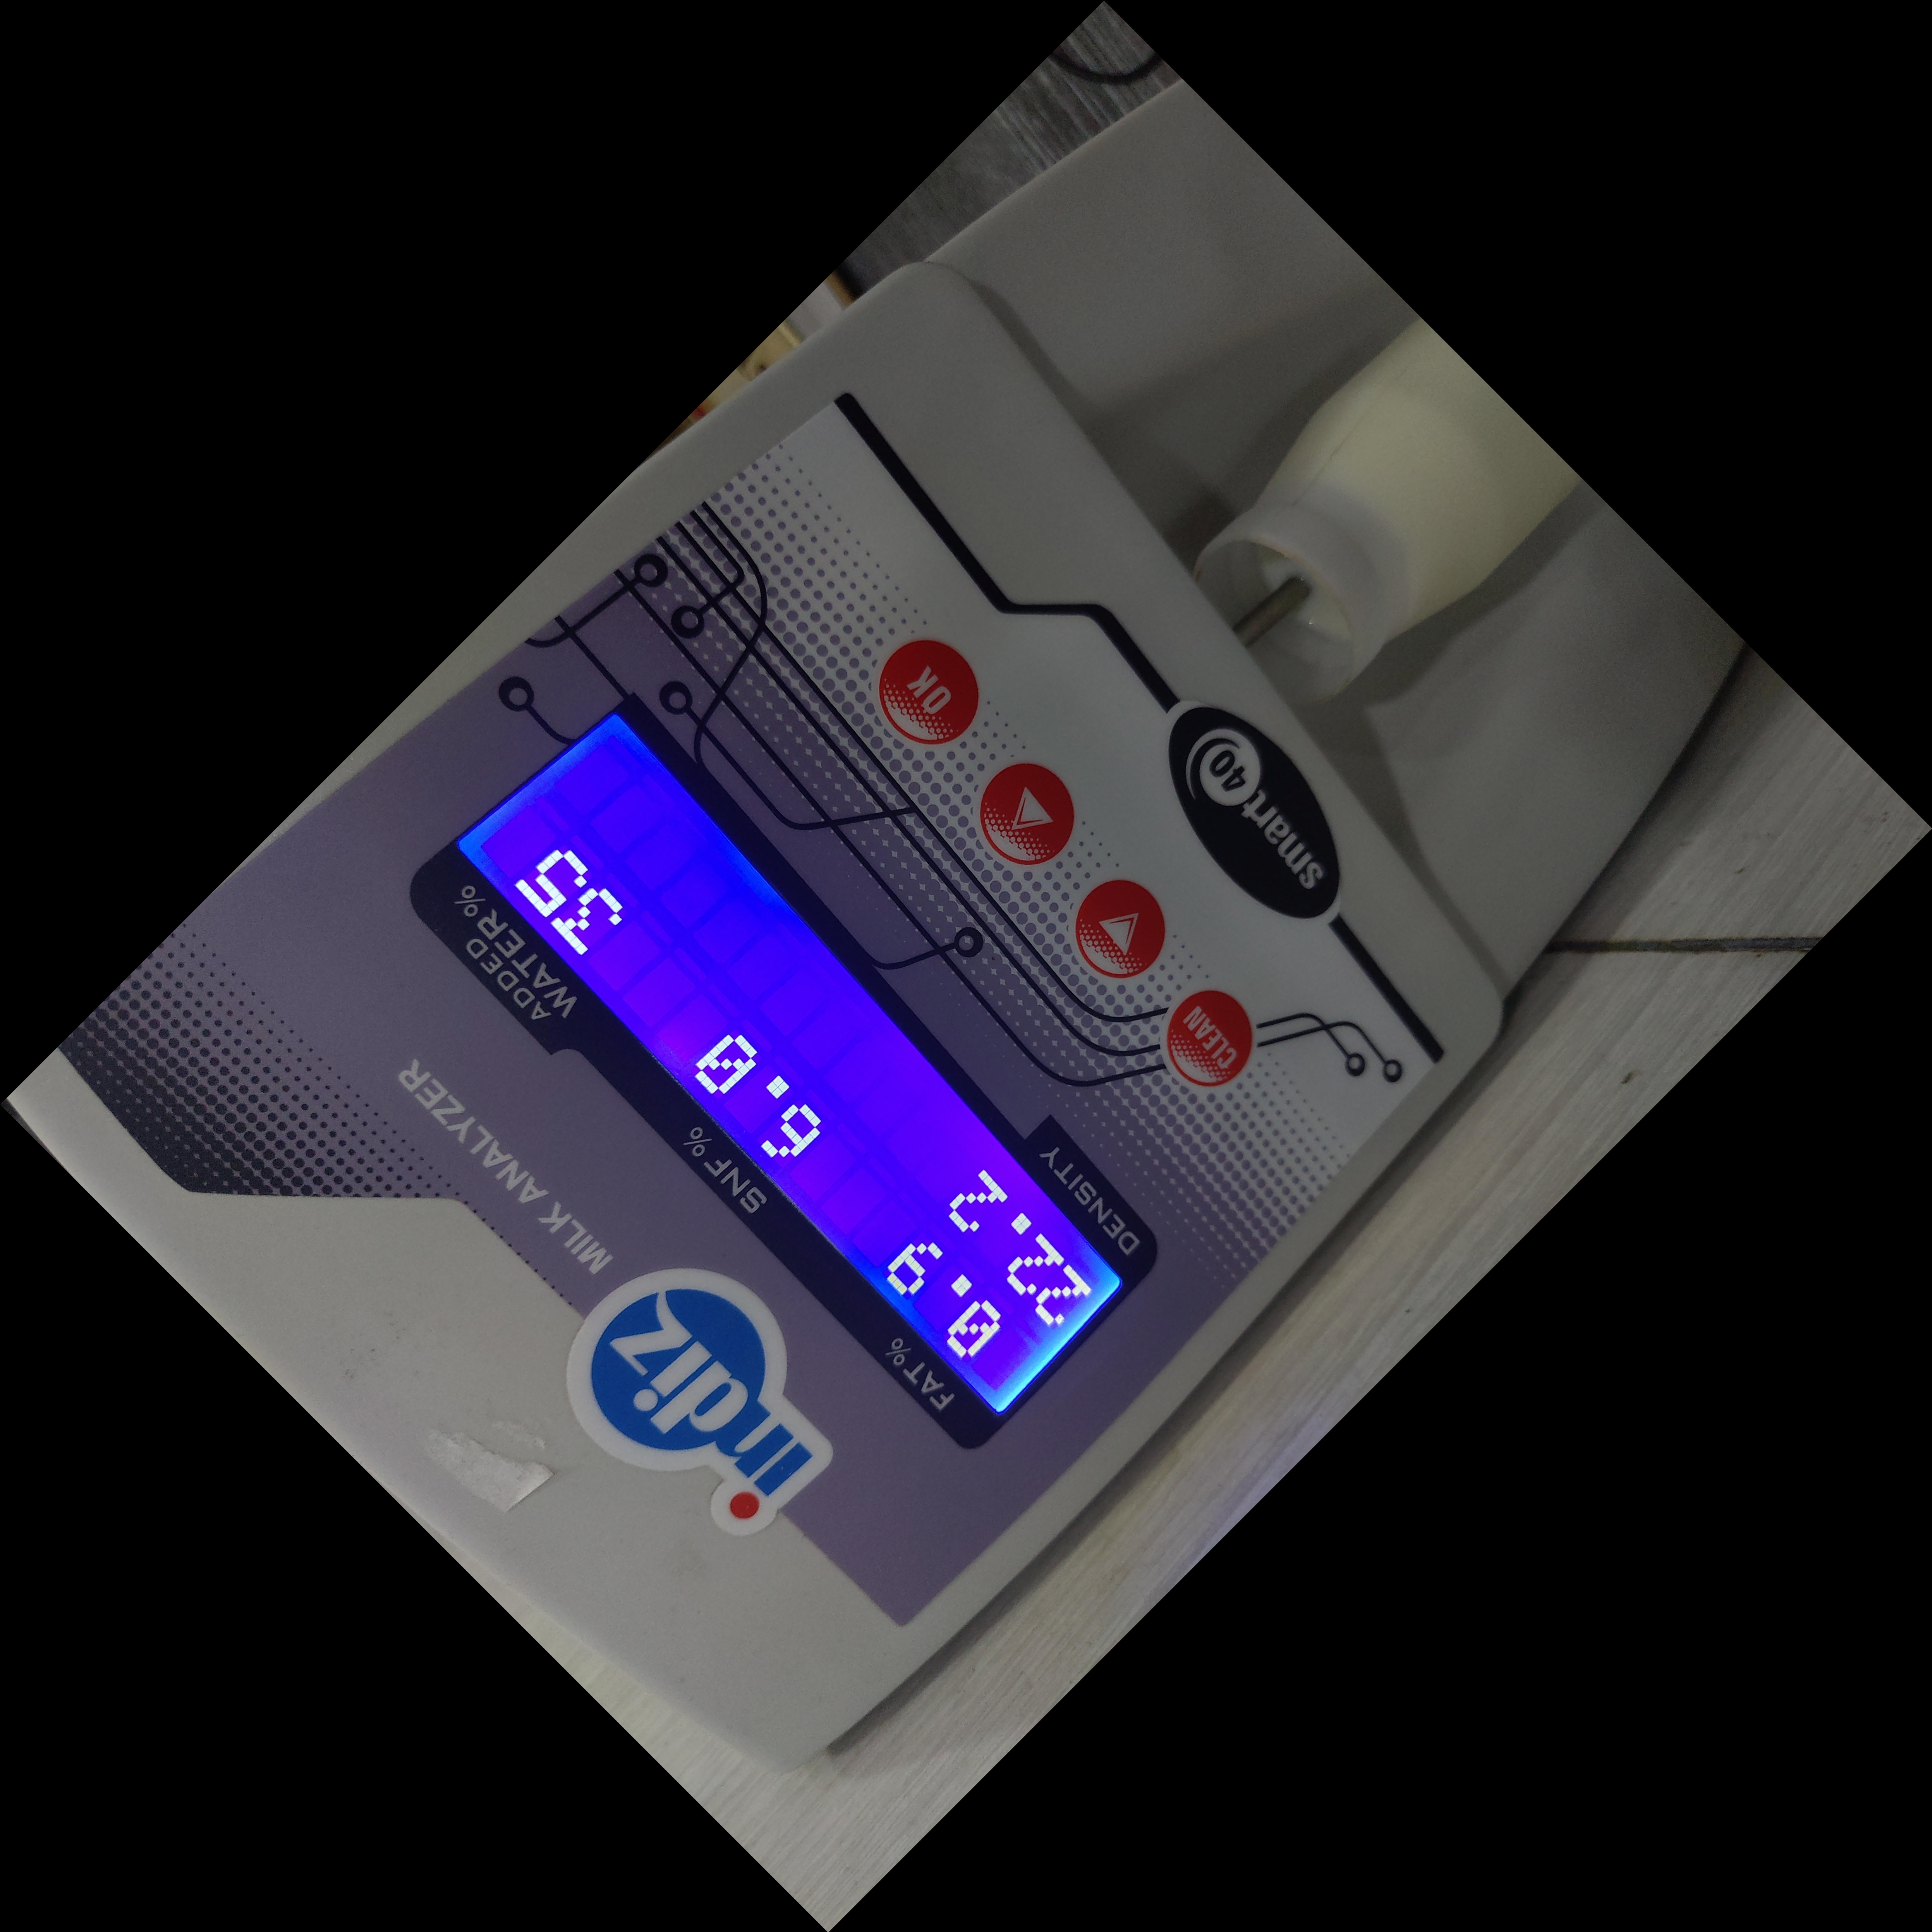lcd: (414, 701, 1161, 1463)
